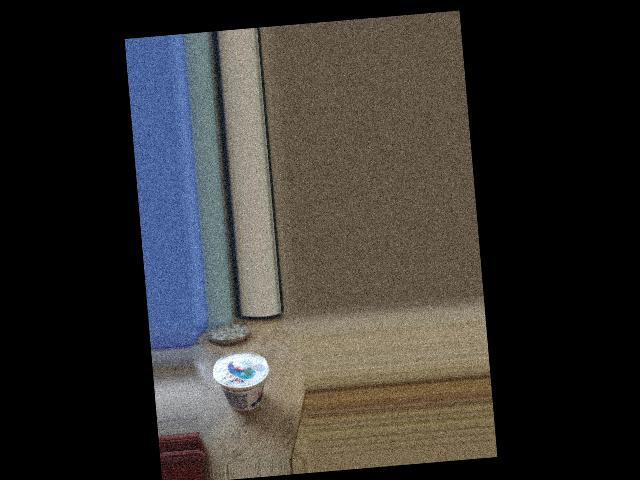cotage: (220, 347, 275, 422)
